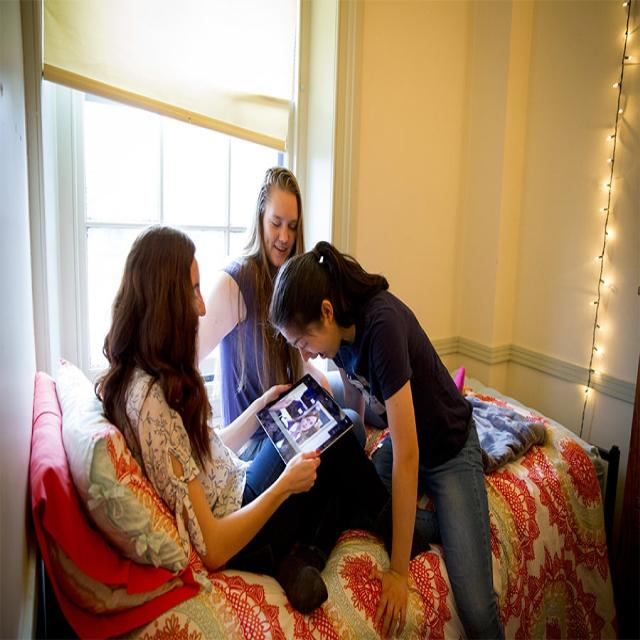body: (92, 222, 442, 593), (266, 239, 506, 640), (195, 164, 390, 466), (286, 404, 319, 444)
